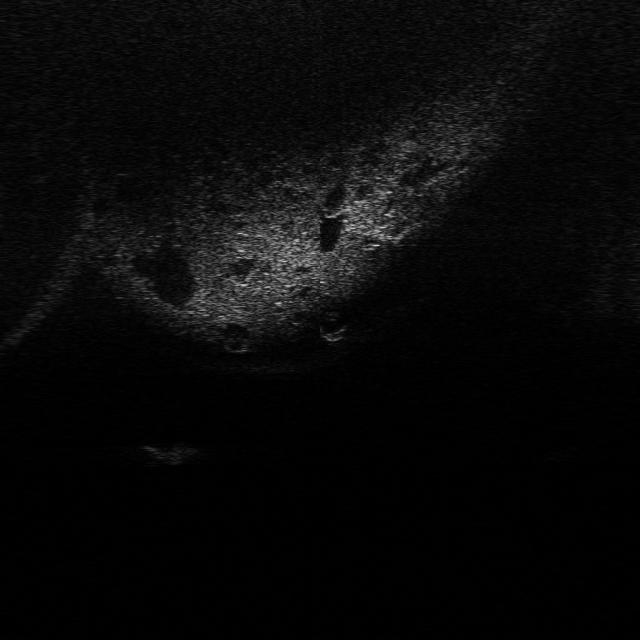ball: (312, 307, 351, 341)
cube: (137, 438, 203, 466)
